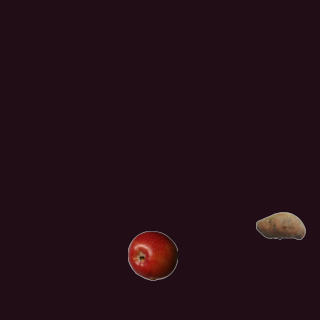Apple Braeburn: (127, 230, 177, 280)
Potato Sweet: (255, 200, 305, 250)
